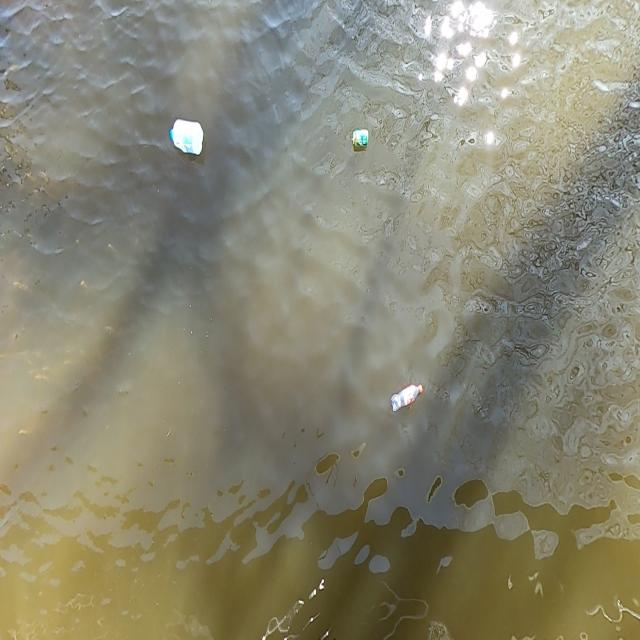Autre plastique: (166, 115, 212, 160)
Bouteille plastique: (389, 378, 428, 418)
Non plastique: (350, 128, 370, 152)
